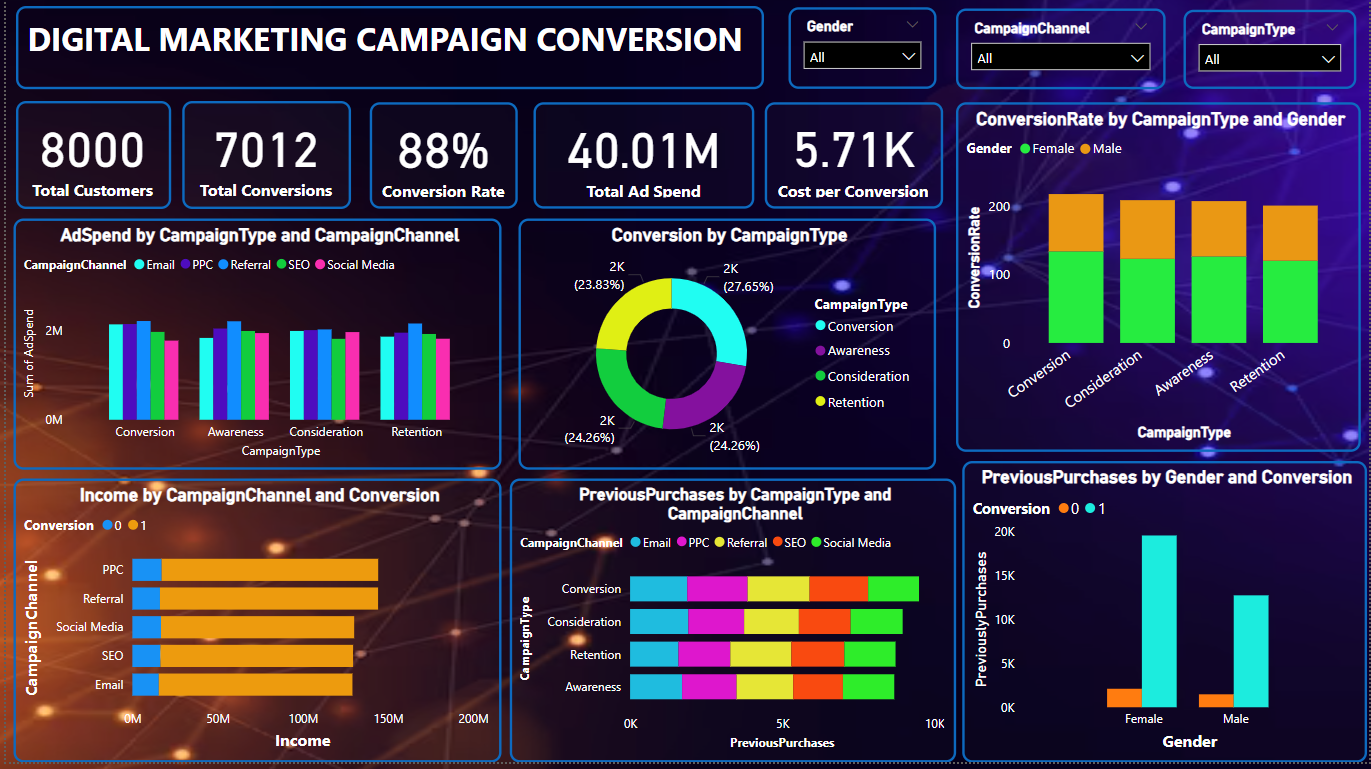

The dashboard page shown, as its layout file describes it:
{"tool":"powerbi","page":{"name":"Page 1","canvas":[1363,766],"ordinal":0},"visuals":[{"type":"textbox","box":[10.4,10.4,748.1,83.3],"z":0},{"type":"card","fields":{"Values":["digital_marketing_campaign_dataset.Total Customers"]},"box":[10.4,105.4,154.8,108],"z":1000},{"type":"card","fields":{"Values":["digital_marketing_campaign_dataset.Total Conversions"]},"box":[175.6,105.4,169.1,108],"z":2000},{"type":"card","fields":{"Values":["digital_marketing_campaign_dataset.Conversion Rate"]},"box":[364.3,106.7,148.3,106.7],"z":3000},{"type":"card","fields":{"Values":["digital_marketing_campaign_dataset.Total Ad Spend"]},"box":[526.9,106.7,221.2,106.7],"z":4000},{"type":"slicer","fields":{"Values":["digital_marketing_campaign_dataset.Gender"]},"box":[781.9,11.7,148.3,82],"z":5000},{"type":"slicer","fields":{"Values":["digital_marketing_campaign_dataset.CampaignChannel"]},"box":[949.7,13,209.5,80.7],"z":6000},{"type":"slicer","fields":{"Values":["digital_marketing_campaign_dataset.CampaignType"]},"box":[1177.4,14.3,173,79.4],"z":7000},{"type":"barChart","title":"Income by CampaignChannel and Conversion","fields":{"Category":["digital_marketing_campaign_dataset.CampaignChannel"],"Y":["Sum(digital_marketing_campaign_dataset.Income)"],"Series":["digital_marketing_campaign_dataset.Conversion"]},"box":[7.8,482.7,487.9,283.6],"z":8000},{"type":"donutChart","title":"Conversion by CampaignType","fields":{"Category":["digital_marketing_campaign_dataset.CampaignType"],"Y":["Sum(digital_marketing_campaign_dataset.Conversion)"]},"box":[512.6,222.5,417.6,251.1],"z":9000},{"type":"clusteredColumnChart","title":"PreviousPurchases by Gender and Conversion","fields":{"Category":["digital_marketing_campaign_dataset.Gender"],"Y":["Sum(digital_marketing_campaign_dataset.PreviousPurchases)"],"Series":["digital_marketing_campaign_dataset.Conversion"]},"box":[956.2,464.4,404.6,301.8],"z":10000},{"type":"clusteredColumnChart","title":"AdSpend by CampaignType and CampaignChannel","fields":{"Category":["digital_marketing_campaign_dataset.CampaignType"],"Series":["digital_marketing_campaign_dataset.CampaignChannel"],"Y":["Sum(digital_marketing_campaign_dataset.AdSpend)"]},"box":[7.8,222.5,487.9,251.1],"z":11000},{"type":"barChart","title":"PreviousPurchases by CampaignType and CampaignChannel","fields":{"Category":["digital_marketing_campaign_dataset.CampaignType"],"Y":["Sum(digital_marketing_campaign_dataset.PreviousPurchases)"],"Series":["digital_marketing_campaign_dataset.CampaignChannel"]},"box":[503.5,482.7,446.2,283.6],"z":12000},{"type":"columnChart","title":"ConversionRate by CampaignType and Gender","fields":{"Series":["digital_marketing_campaign_dataset.Gender"],"Category":["digital_marketing_campaign_dataset.CampaignType"],"Y":["Sum(digital_marketing_campaign_dataset.ConversionRate)"]},"box":[949.7,106.7,404.6,350],"z":13000},{"type":"card","fields":{"Values":["digital_marketing_campaign_dataset.Cost per Conversion"]},"box":[758.5,106.7,178.2,106.7],"z":14000}]}

Visuals, with their boxes in screenshot pixels (x1, y1, x2, y2), scaled from the page's 1363x766 canvas onto the 1371x769 screenshot:
textbox: bbox=(10, 10, 763, 94)
card - digital_marketing_campaign_dataset.Total Customers: bbox=(10, 106, 166, 214)
card - digital_marketing_campaign_dataset.Total Conversions: bbox=(177, 106, 347, 214)
card - digital_marketing_campaign_dataset.Conversion Rate: bbox=(366, 107, 516, 214)
card - digital_marketing_campaign_dataset.Total Ad Spend: bbox=(530, 107, 752, 214)
slicer - digital_marketing_campaign_dataset.Gender: bbox=(786, 12, 936, 94)
slicer - digital_marketing_campaign_dataset.CampaignChannel: bbox=(955, 13, 1166, 94)
slicer - digital_marketing_campaign_dataset.CampaignType: bbox=(1184, 14, 1358, 94)
"Income by CampaignChannel and Conversion" barChart: bbox=(8, 485, 499, 768)
"Conversion by CampaignType" donutChart: bbox=(516, 223, 936, 475)
"PreviousPurchases by Gender and Conversion" clusteredColumnChart: bbox=(962, 466, 1369, 768)
"AdSpend by CampaignType and CampaignChannel" clusteredColumnChart: bbox=(8, 223, 499, 475)
"PreviousPurchases by CampaignType and CampaignChannel" barChart: bbox=(506, 485, 955, 768)
"ConversionRate by CampaignType and Gender" columnChart: bbox=(955, 107, 1362, 458)
card - digital_marketing_campaign_dataset.Cost per Conversion: bbox=(763, 107, 942, 214)
